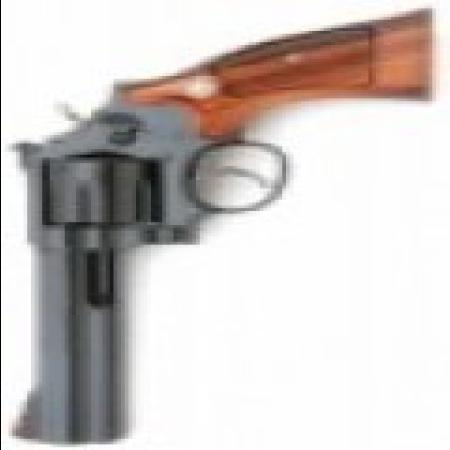Pistol: (4, 14, 435, 447)
